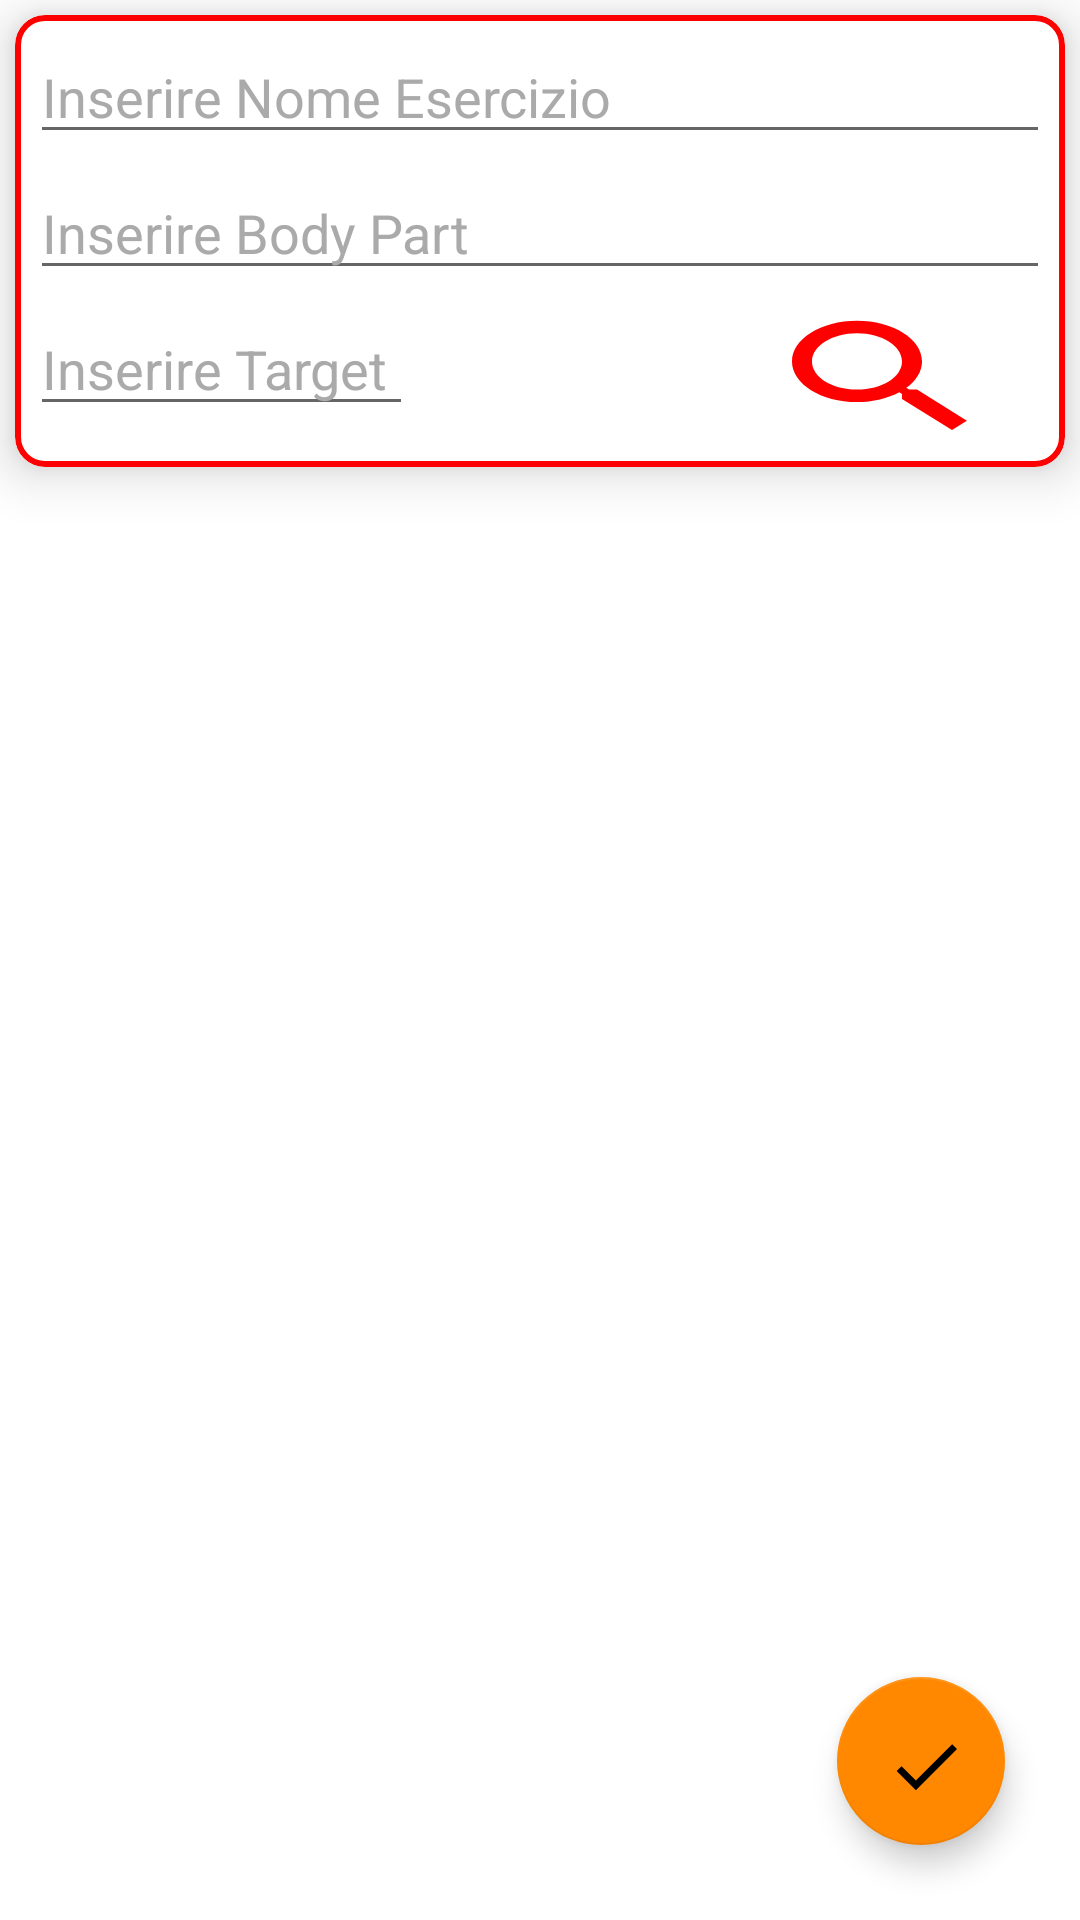

Named icons in this screenshot (1080px x 1920px) and their bounding boxes, Rect(x1, y1, x2, y2):
search: Rect(792, 320, 967, 430)
